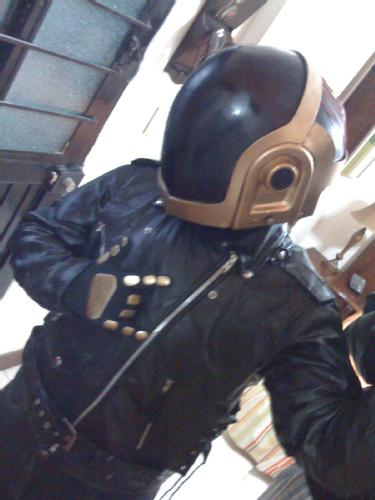helmet: (159, 49, 345, 227)
